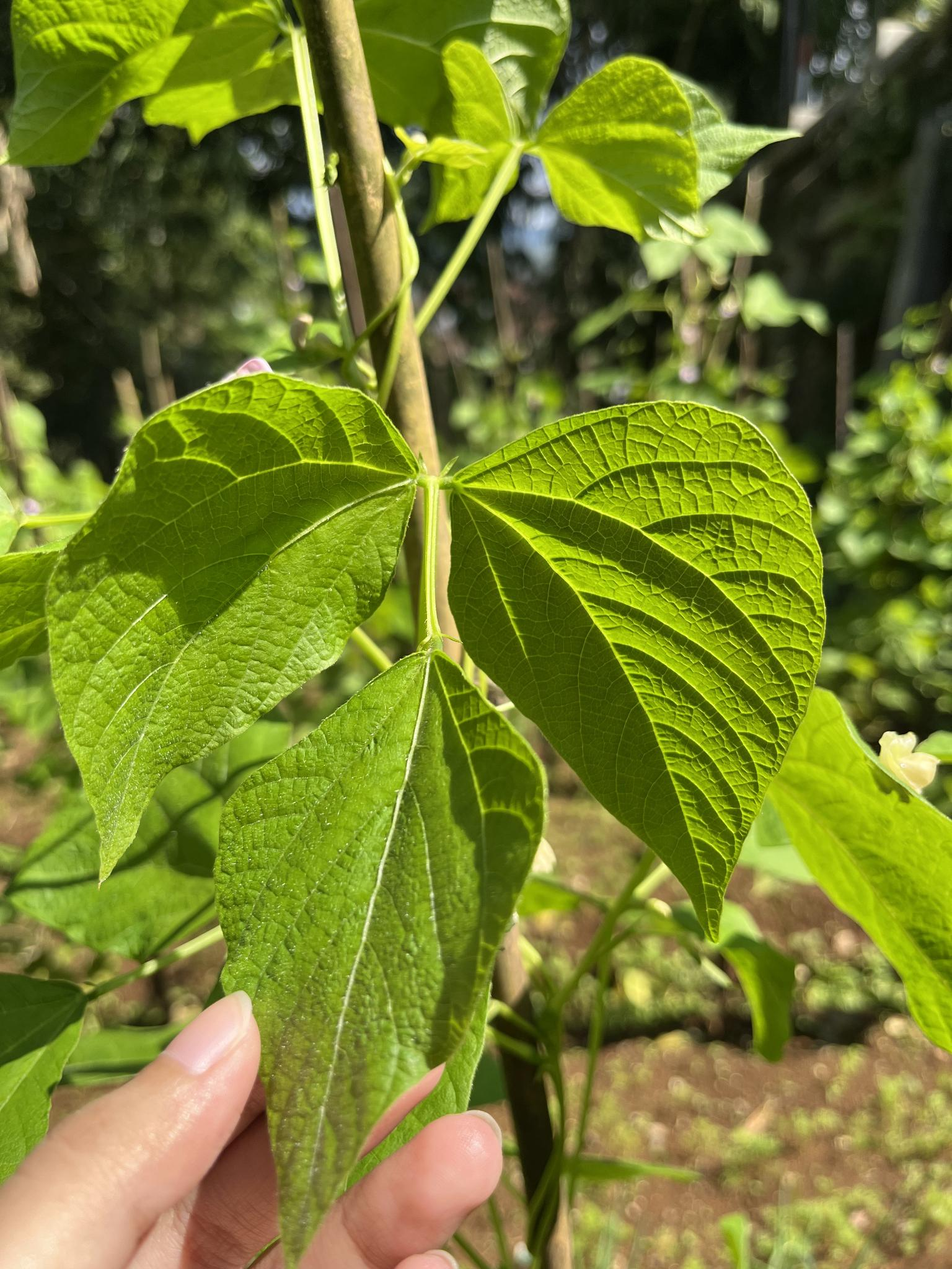sehat: (447, 407, 851, 942), (47, 354, 423, 847)
